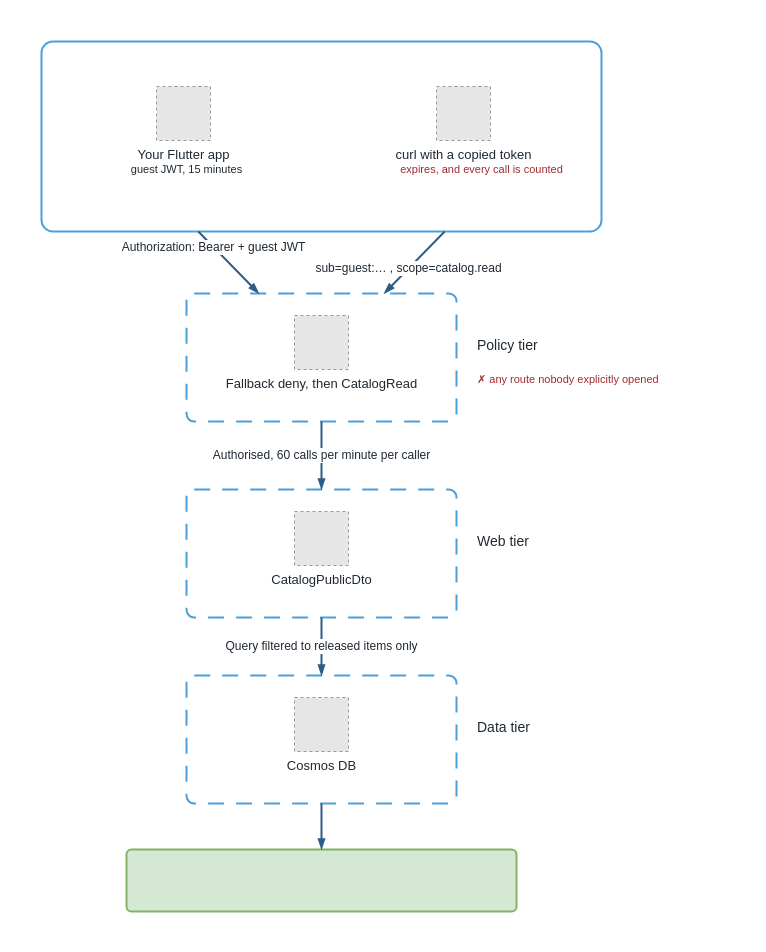
Some shapes in this 766 by 952 pixel diagram are drawn without their labels. Grey dashed boxes stand in for pictures. The shapes that lost their labels are listed below. From the top down, each one's box as (x1, y1, x2, y2) in pixels, then its label:
(40, 40, 602, 232): Anyone on the internet
(125, 848, 517, 912): Catalogue JSON, public fields only Abuse is now scoped, counted and visible
